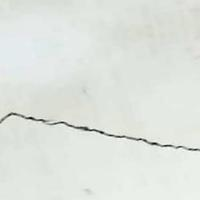crack: (0, 85, 199, 170)
